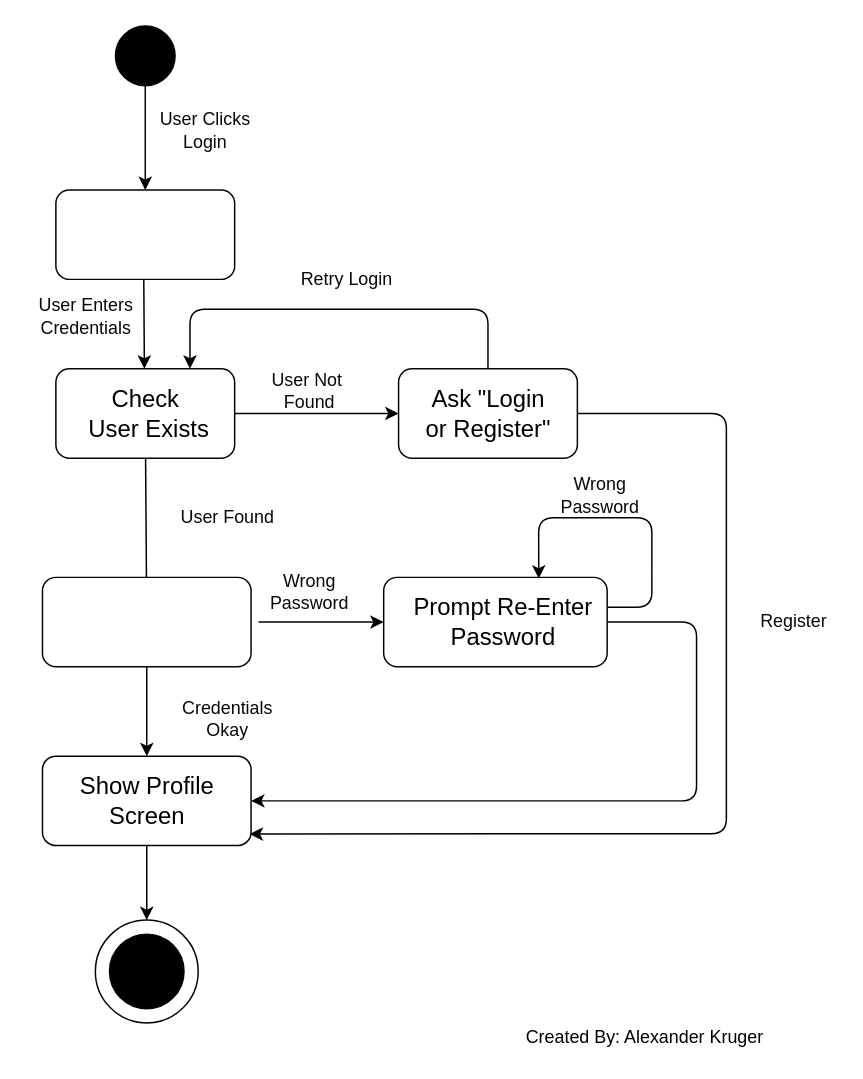
Some shapes in this 863 by 1079 pixel diagram are drawn without their labels. The box of each missing label's shape, as (x1, y1, x2, y2) in pixels:
Check Credentials: (41, 576, 251, 667)
Start Login: (54, 188, 235, 279)
